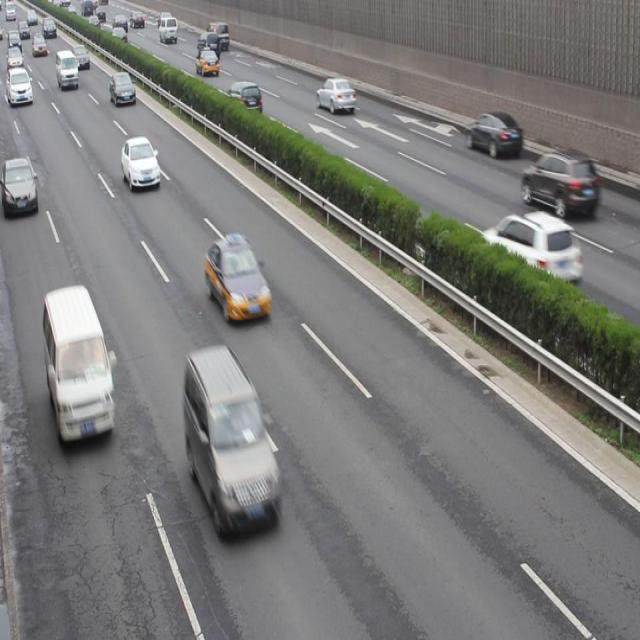car: (484, 212, 581, 288), (205, 232, 271, 320), (521, 154, 599, 215), (464, 113, 521, 155), (1, 158, 38, 215), (122, 133, 159, 188), (315, 76, 354, 114), (225, 79, 262, 117), (1, 68, 33, 106), (110, 72, 137, 106), (196, 50, 219, 76), (74, 45, 89, 69), (110, 28, 126, 44)
truck: (185, 349, 282, 539), (45, 284, 115, 444), (57, 49, 78, 88), (197, 32, 220, 62), (207, 23, 230, 47), (159, 15, 177, 43)
